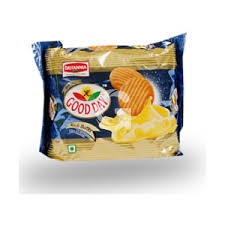gooday-medium: (45, 39, 180, 162)
